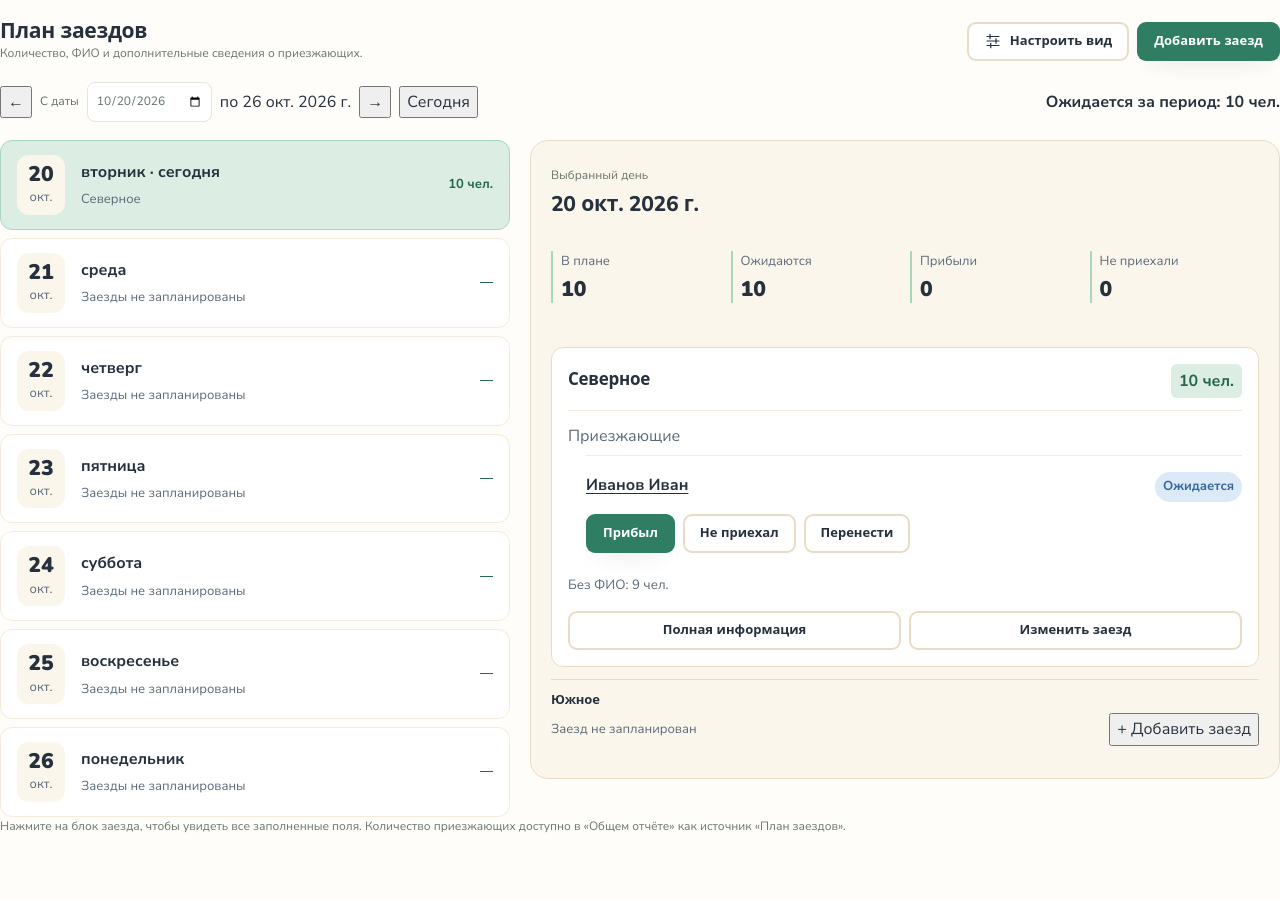
Test: переключает подробности дня, добавляет заезд на выбранную дату и возвращается к сегодня
Click the button with aria-label "Выбрать дату: 2026-10-22". click: (41, 381)
box: [0,336,510,426]
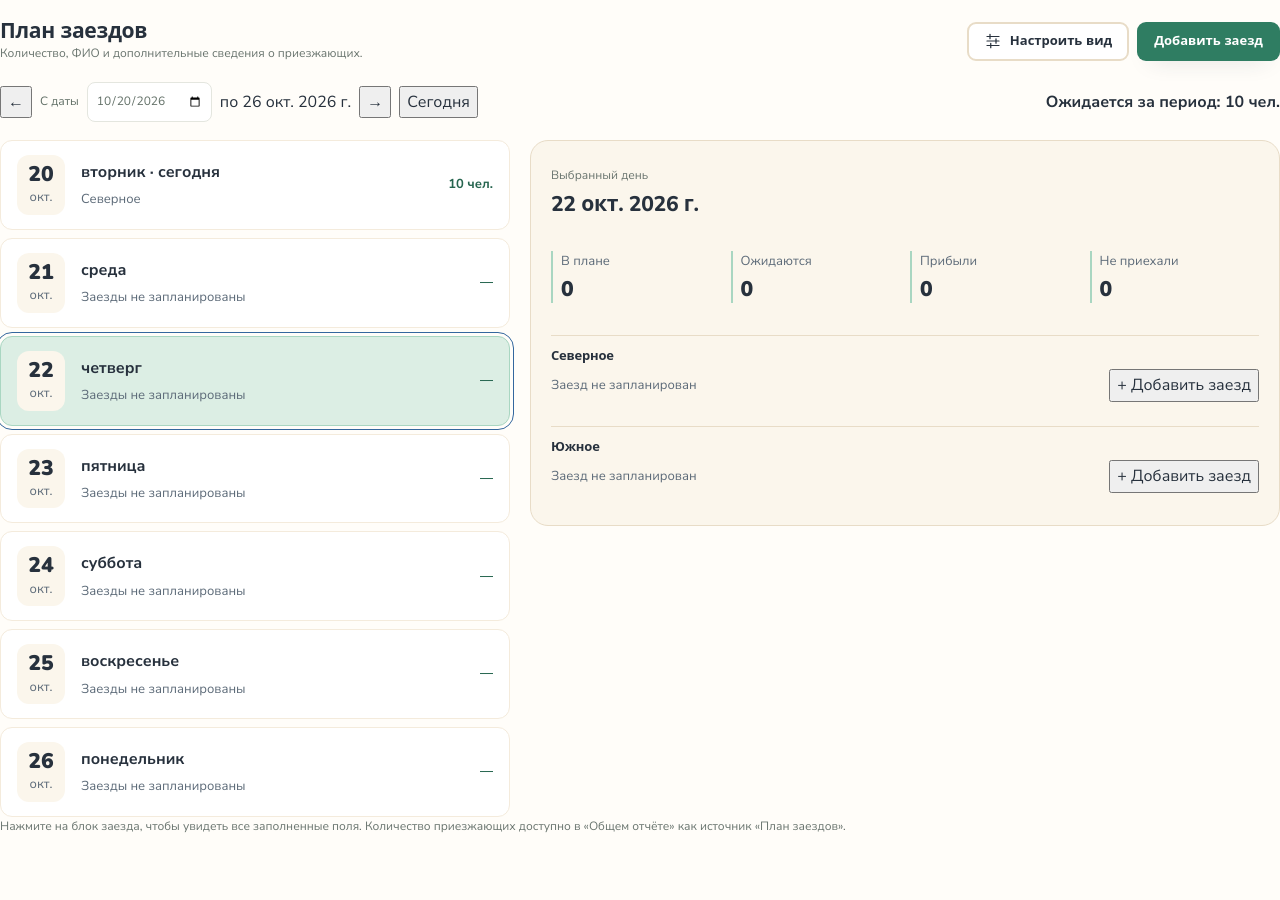
Now the element named "Заезды на выбранную дату" shows "22 окт. 2026", box [551,190,699,218]
Now the button "Иванов Иван" is gone
Click the button "Добавить заезд". click: (1209, 41)
box: [1137,22,1279,61]
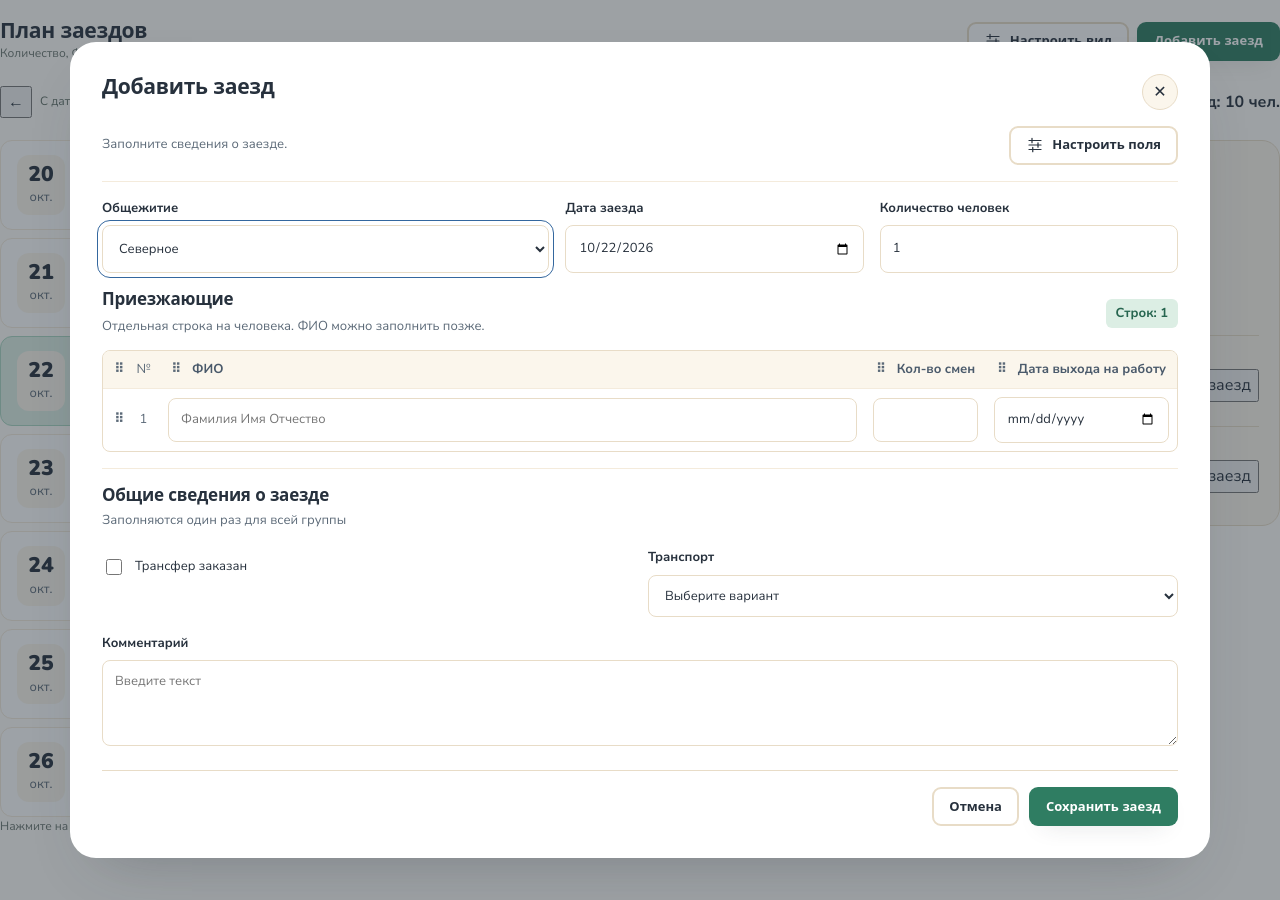
Now the date field labelled "Дата заезда" holds "2026-10-22", box [565,225,864,273]
Click the button named "Закрыть окно". click: (1160, 92)
box: [1142,74,1178,110]
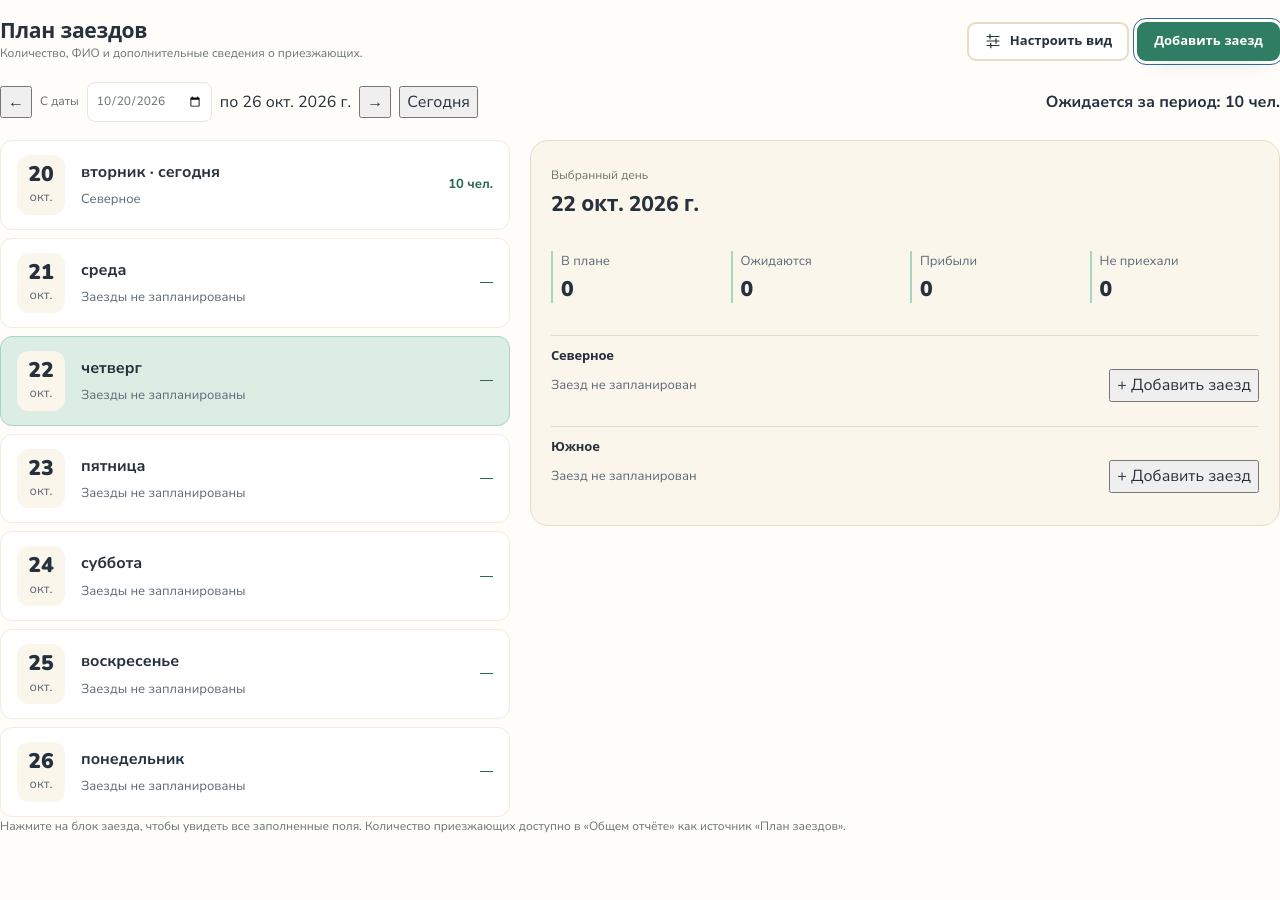
Click the button named "Следующие 7 дней". click: (375, 102)
box: [359,86,391,118]
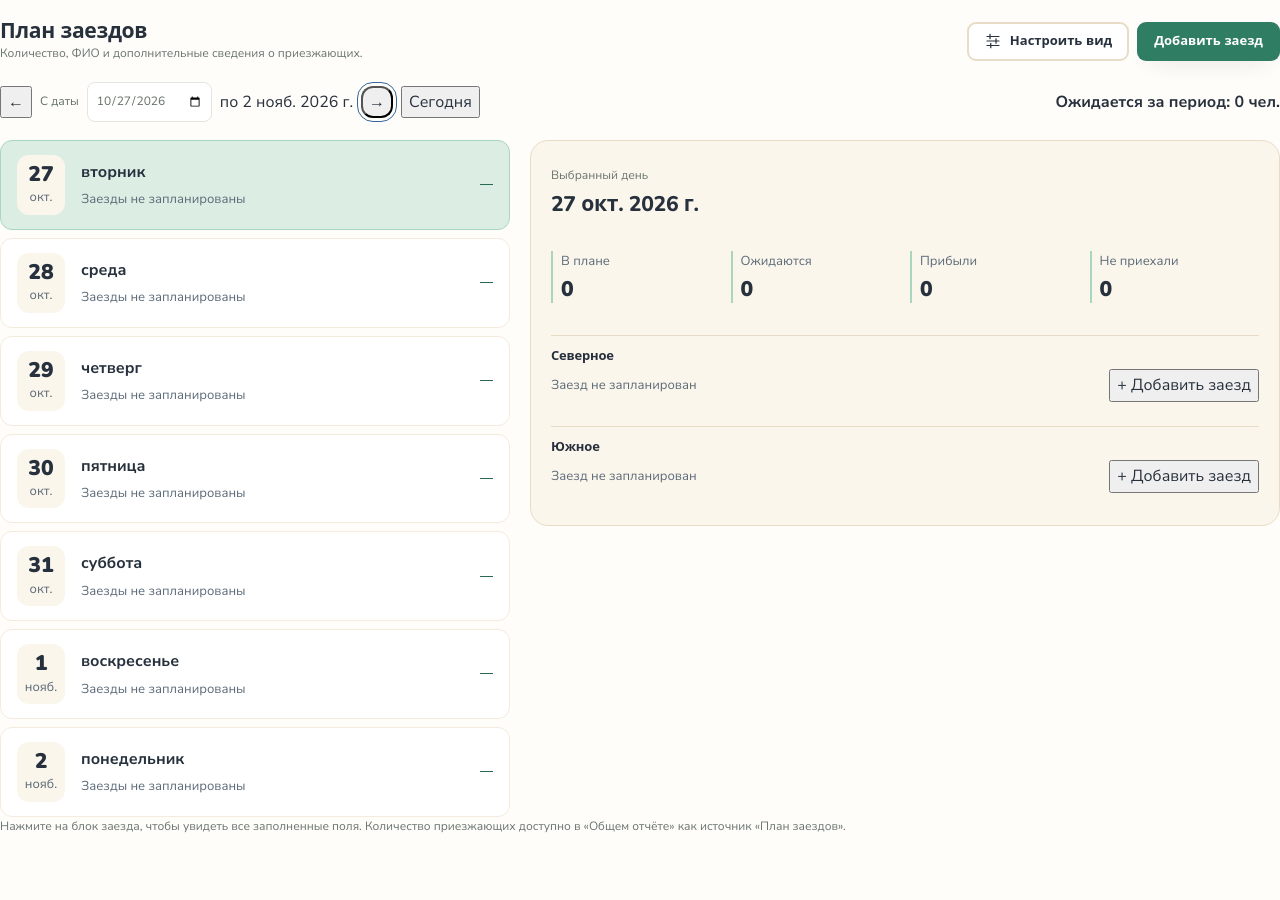
Now the element named "Заезды на выбранную дату" shows "27 окт. 2026", box [551,190,699,218]
Click the button "Сегодня". click: (440, 102)
box: [401,86,480,118]
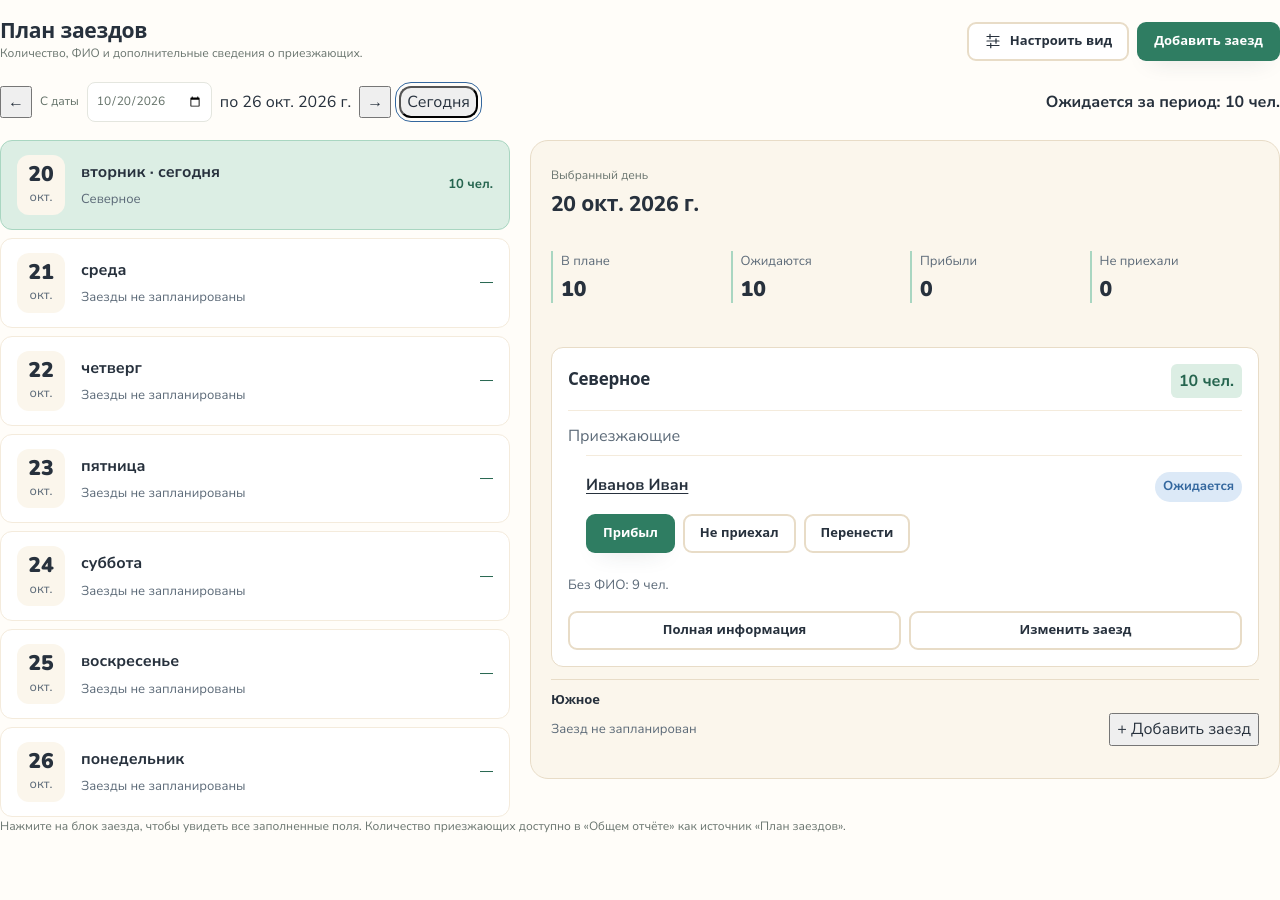
Now the element named "Заезды на выбранную дату" shows "20 окт. 2026", box [551,190,699,218]
Now the element named "Заезды на выбранную дату" shows "Иванов Иван", box [586,472,688,499]
